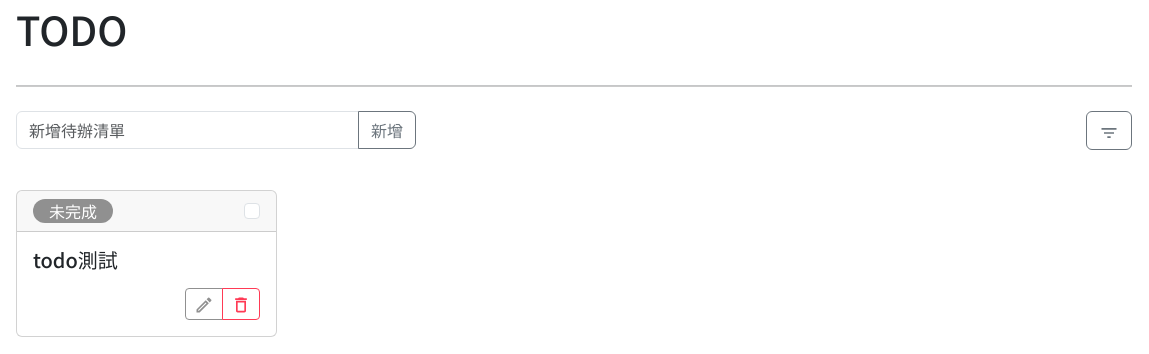
ToDoApp › 切換狀態
Type "切換狀態測試" into the field with placeholder "新增待辦清單" at (188, 130), box [16, 111, 359, 149]
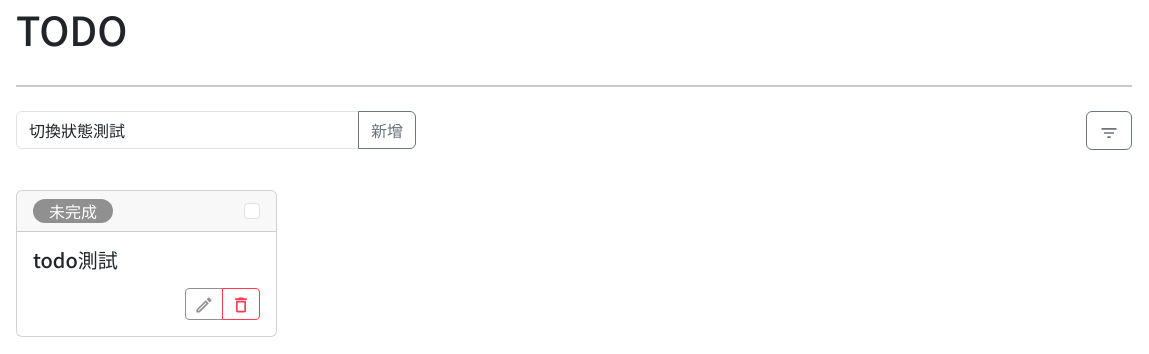
Click the button "新增" at (387, 130), box [358, 111, 416, 149]
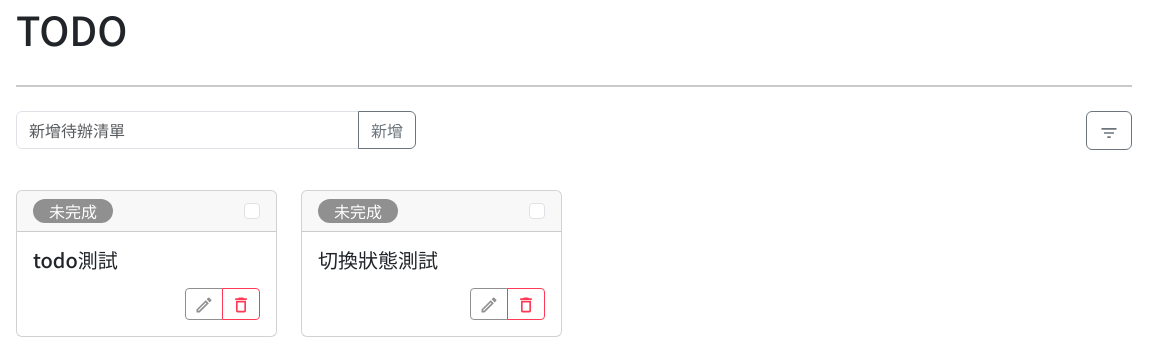
Now the text "切換狀態測試" is shown, box [318, 245, 438, 274]
Now the 2nd text "未完成" is shown, box [318, 199, 398, 223]
Now the 2nd checkbox named "改變狀態" is not checked
Click the 2nd checkbox named "改變狀態" at (537, 211), box [529, 203, 545, 219]
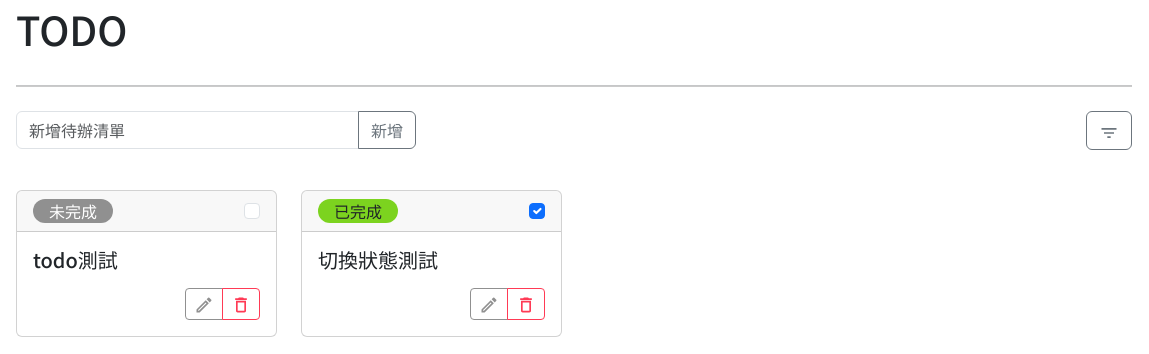
Now the checkbox named "改變狀態" next to "已完成" is checked, box [529, 203, 545, 219]
Now the text "已完成" is shown, box [318, 199, 398, 223]
